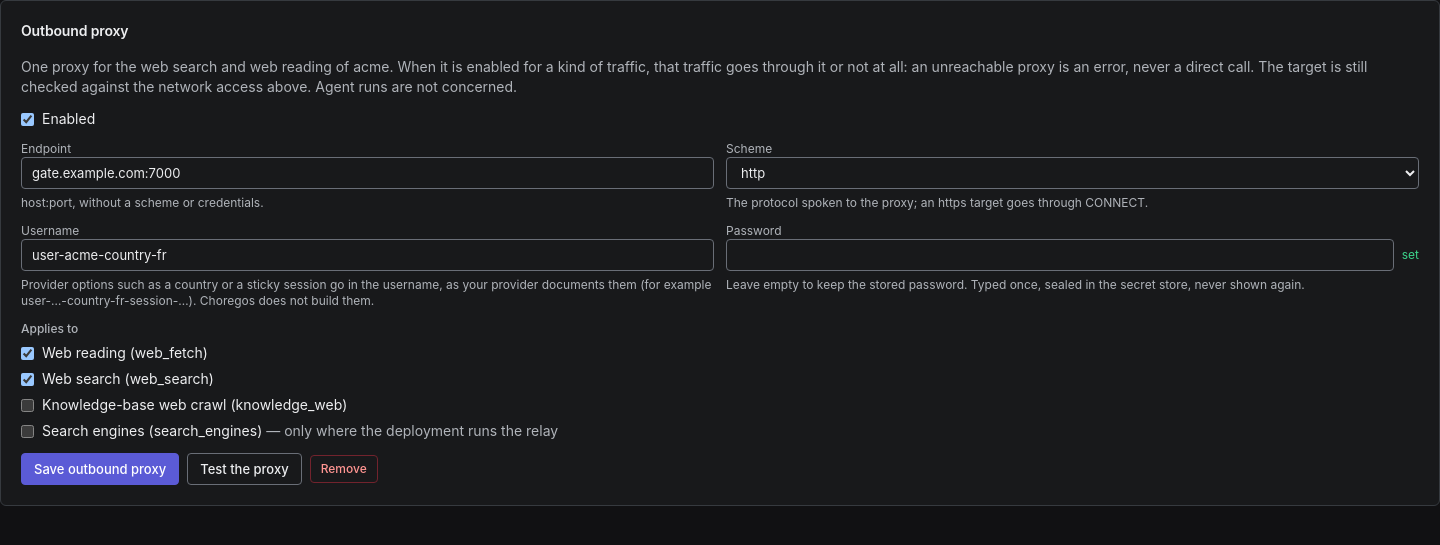
Test: the organisation's outbound proxy (ADR 0087) › Save is disabled when no kind of traffic is chosen
This screenshot has width=1440, height=545.
Check: the field showing "gate.example.com:7000" is shown, box [21,157,714,189]
Click the checkbox labelled "Web reading (web_fetch)" at (28, 353), box [21,346,34,360]
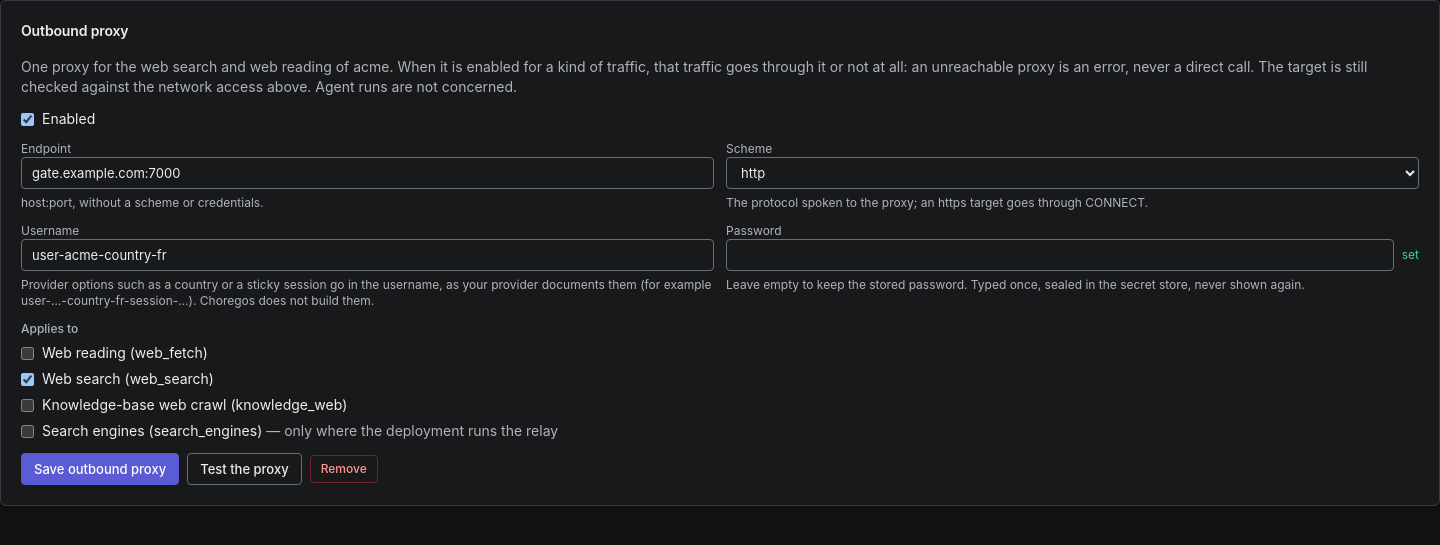
Click the checkbox labelled "Web search (web_search)" at (28, 379), box [21,372,34,386]
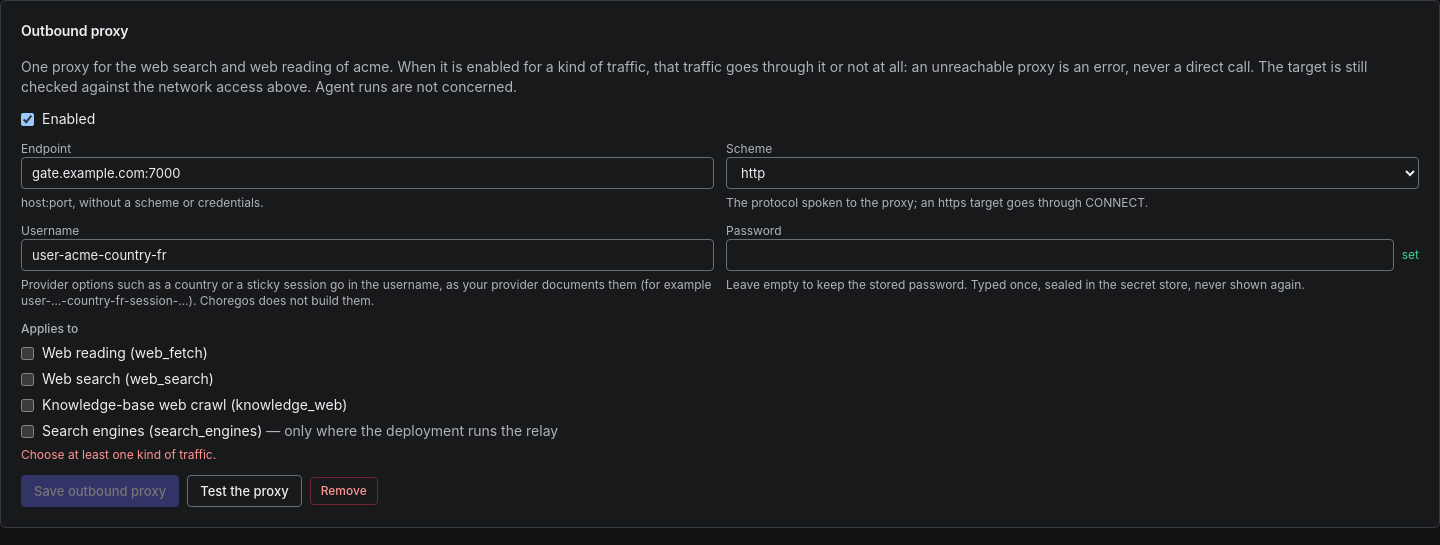
Check: the button "Save outbound proxy" is disabled, box [21,475,179,507]
